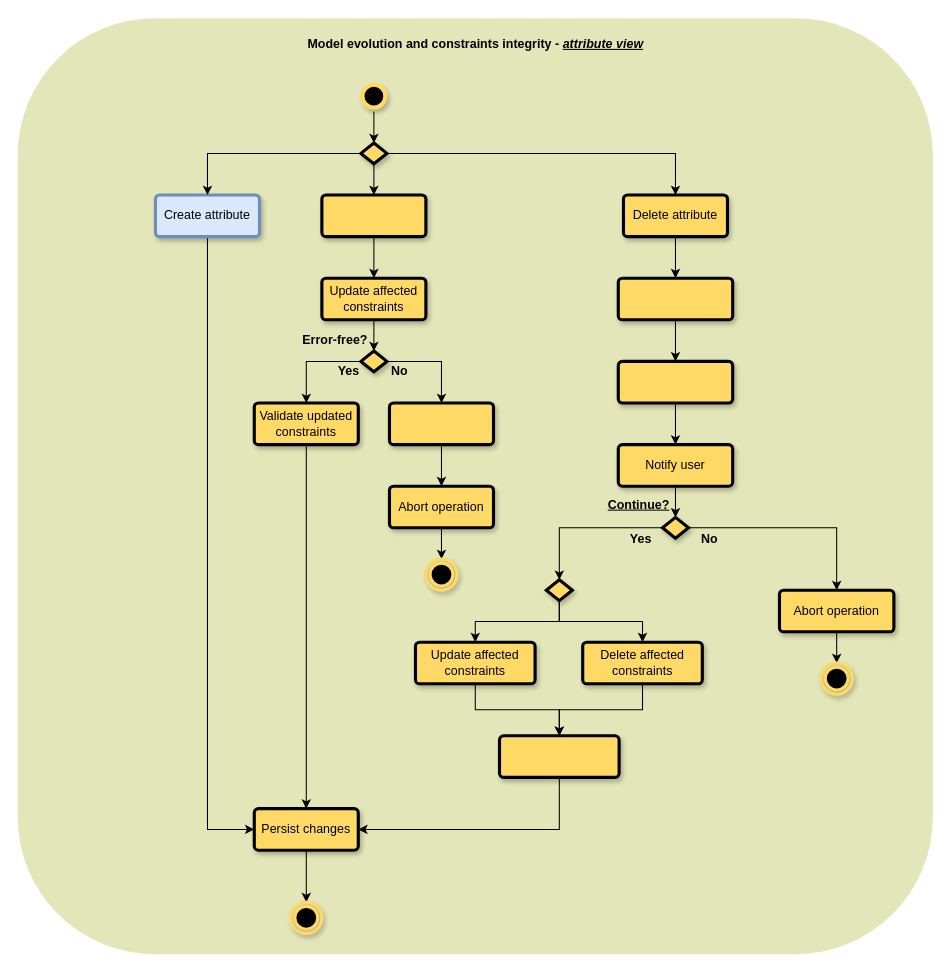
This 951x971 diagram has some shape labels left out. The centre of each missing label's shape, as x and y in pixels:
"Collect affected constraints" belongs at point 676,383.
"Collect constraints to be deleted" belongs at point 676,300.
"Confirm deletion" belongs at point 559,758.
"Inform about errors" belongs at point 442,425.
"Update attribute" belongs at point 374,217.
